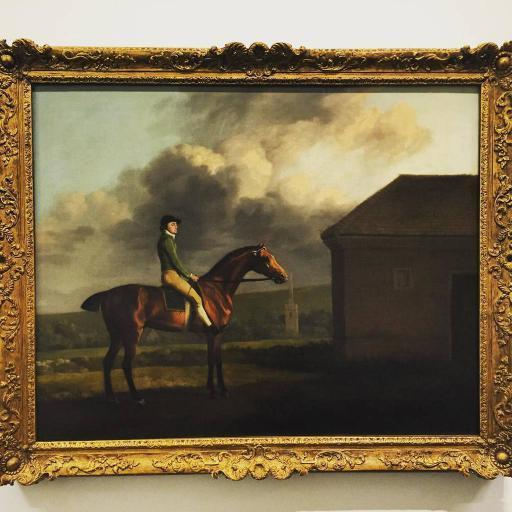horse: (76, 238, 288, 404)
